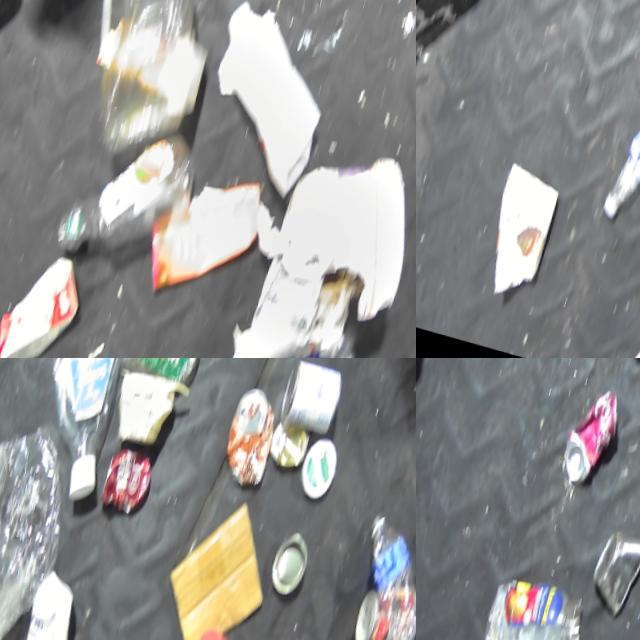can: (216, 374, 289, 487), (558, 377, 629, 488), (274, 358, 350, 432), (97, 437, 163, 515), (349, 565, 416, 640), (589, 517, 640, 615), (267, 519, 319, 593), (265, 412, 315, 467)
milk_jug: (189, 0, 348, 197)
plastic_bottle: (55, 101, 212, 279), (14, 358, 147, 503), (476, 567, 598, 640), (234, 302, 369, 358), (602, 44, 640, 226), (356, 497, 416, 591)
